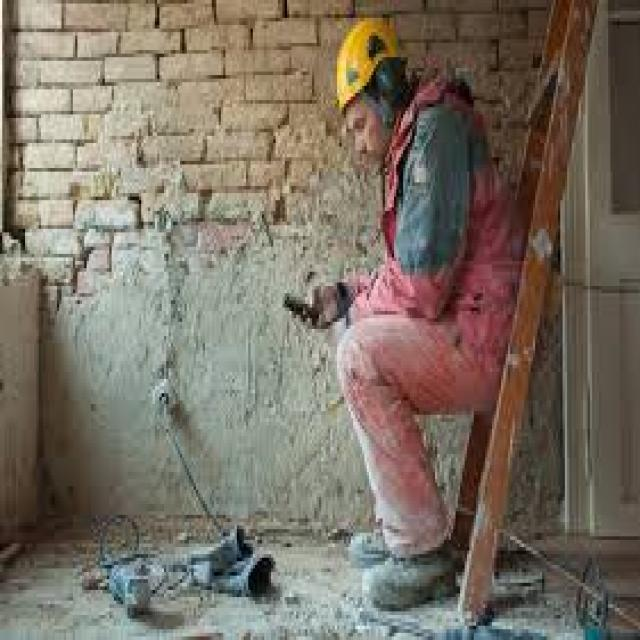Reflective-Jacket: (351, 68, 533, 400)
Safety-Helmet: (326, 7, 408, 122)
